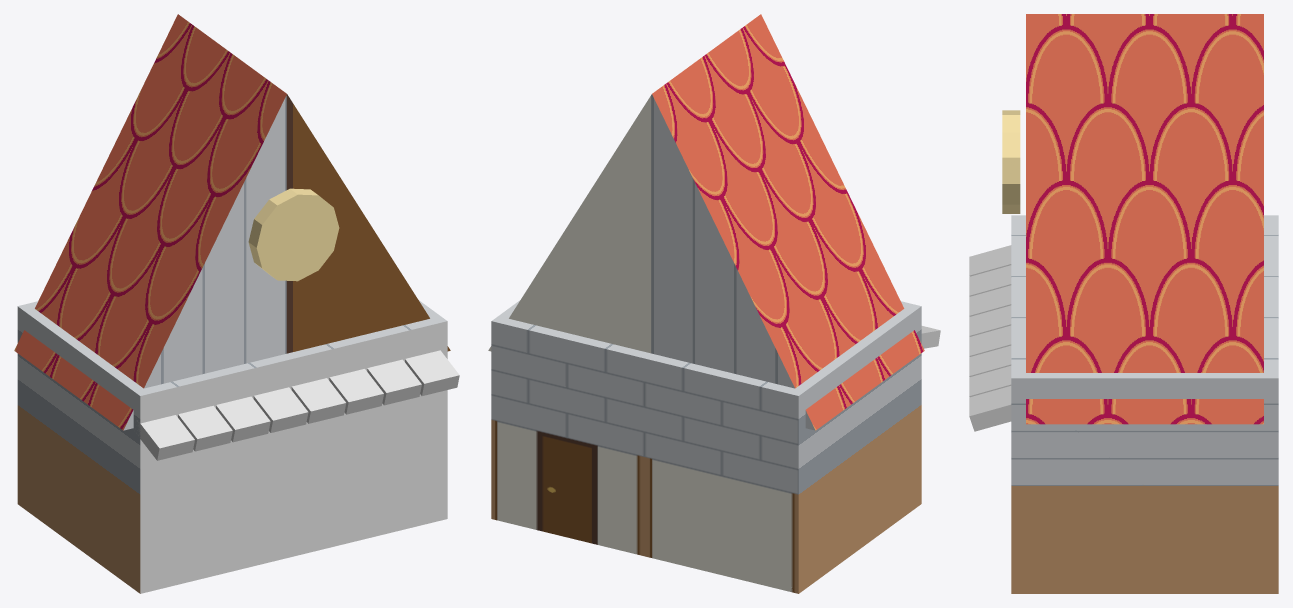
Rendered from building_shop.glb.
3 views of the same model, side by side, from view 1: azimuth 30°, elevation 25°; view 2: azimuth 150°, elevation 25°; view 3: azimuth 270°, elevation 25° (orthographic). The views are drawn at different scales.
Parts seen in each view (by area): view 1: building_shop; view 2: building_shop; view 3: building_shop.
Boxes of the visible parts, <box> form: building_shop: <box>14,14,459,593</box>; building_shop: <box>488,14,940,593</box>; building_shop: <box>969,14,1278,593</box>.
Size of the model in its own units: 2.77 by 3.7 by 2.08.
3 materials, 2 textured.
